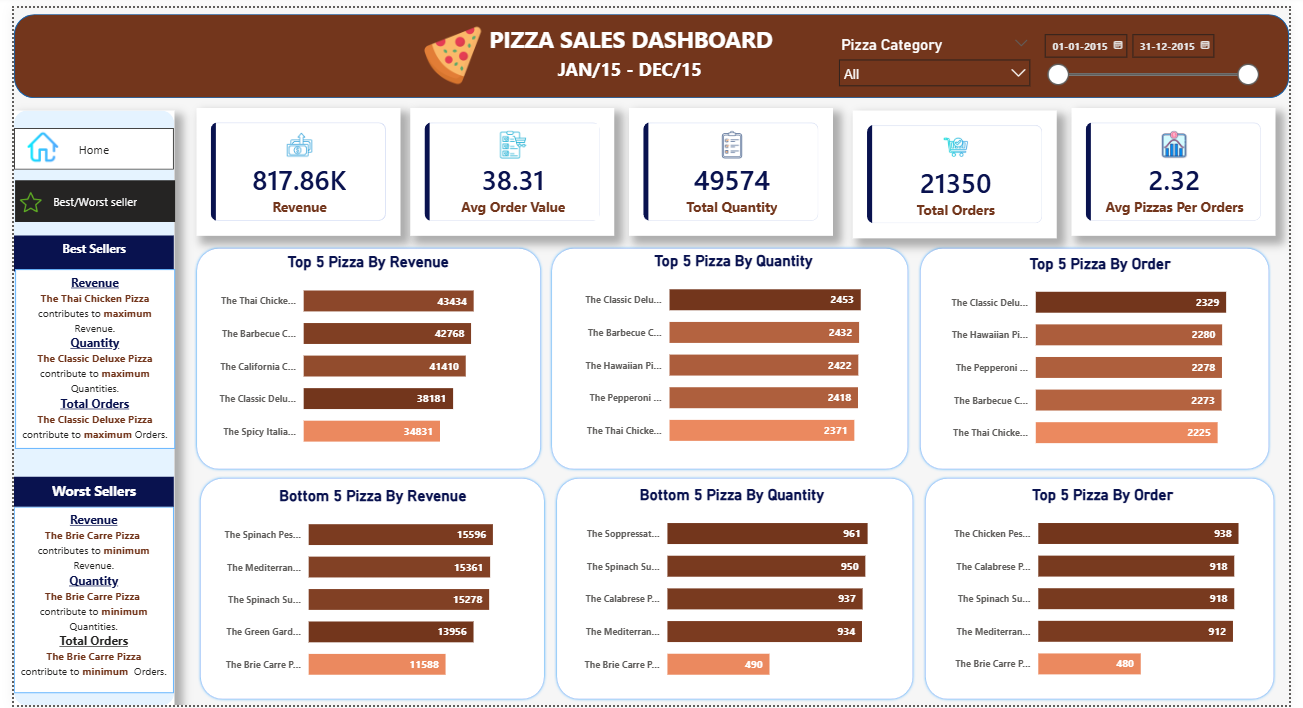

This screenshot's page, from the dashboard's own definition file:
{"tool":"powerbi","page":{"name":"Best/Worst seller","canvas":[1500,820],"ordinal":1},"visuals":[{"type":"cardVisual","fields":{"Data":["pizza_sales.Revenue"]},"box":[215.4,117.2,240,150],"z":0},{"type":"cardVisual","fields":{"Data":["pizza_sales.Avg Order Value"]},"box":[466.9,117.2,240,150],"z":1000},{"type":"cardVisual","fields":{"Data":["pizza_sales.Total Quantity"]},"box":[724,117.2,240,150],"z":2000},{"type":"cardVisual","fields":{"Data":["pizza_sales.Total Orders"]},"box":[986.2,120,240,150],"z":3000},{"type":"cardVisual","fields":{"Data":["pizza_sales.Avg Pizzas Per Orders"]},"box":[1244,117.2,240,150],"z":4000},{"type":"shape","box":[0,7.5,1500,98.8],"z":5000},{"type":"textbox","box":[547.5,13.8,357.5,47.5],"z":6000},{"type":"textbox","box":[608.8,51.2,231.2,40],"z":7000},{"type":"image","box":[466.2,21.2,100,70],"z":8000},{"type":"shape","box":[216.9,550.4,410.9,266.4],"z":9000},{"type":"shape","box":[1068.7,550.4,416.4,266.4],"z":10000},{"type":"shape","box":[635.1,550.4,425.5,266.4],"z":11000},{"type":"shape","box":[0,120,188.6,700],"z":12000},{"type":"textbox","box":[0.7,586.4,187.9,219.3],"z":13000},{"type":"textbox","box":[0.7,551.4,187.9,35],"z":14000},{"type":"textbox","box":[0,267.3,188.2,42.7],"z":15000},{"type":"textbox","box":[0.8,306.9,187.7,211.5],"z":16000},{"type":"slicer","fields":{"Values":["pizza_sales.pizza_category"]},"box":[960,27.5,245,78.8],"z":17000},{"type":"slicer","fields":{"Values":["pizza_sales.order_date"]},"box":[1200,21,273,79],"z":18000},{"type":"shape","box":[211.9,279,410.9,266.4],"z":19000},{"type":"shape","box":[1063.7,279,416.4,266.4],"z":20000},{"type":"shape","box":[630.1,279,425.5,266.4],"z":21000},{"type":"barChart","title":"Top 5 Pizza By Revenue","fields":{"Category":["pizza_sales.pizza_name"],"Y":["pizza_sales.Revenue"]},"box":[225.5,288.2,383.6,243.6],"z":21001},{"type":"barChart","title":"Bottom 5 Pizza By Revenue","fields":{"Category":["pizza_sales.pizza_name"],"Y":["pizza_sales.Revenue"]},"box":[231.4,562.9,382.9,242.9],"z":21002},{"type":"barChart","title":"Bottom 5 Pizza By Quantity","fields":{"Category":["pizza_sales.pizza_name"],"Y":["pizza_sales.Total Quantity"]},"box":[653.3,562.2,383.3,244.4],"z":21004},{"type":"barChart","title":"Top 5 Pizza By Quantity","fields":{"Category":["pizza_sales.pizza_name"],"Y":["pizza_sales.Total Quantity"]},"box":[654.3,287.1,384.3,244.3],"z":21005},{"type":"barChart","title":"Top 5 Pizza By Order","fields":{"Category":["pizza_sales.pizza_name"],"Y":["pizza_sales.Total Orders"]},"box":[1085,289,385,244],"z":21006},{"type":"barChart","title":"Top 5 Pizza By Order","fields":{"Category":["pizza_sales.pizza_name"],"Y":["pizza_sales.Total Orders"]},"box":[1088,562,385,244],"z":21007},{"type":"pageNavigator","box":[0.9,202.7,188.2,50],"z":21008},{"type":"pageNavigator","box":[0,141.8,188.2,50],"z":21009},{"type":"image","box":[8.8,146.2,50,36.2],"z":21010},{"type":"image","box":[2.5,216.2,33.8,25],"z":21011}]}

Visuals, with their boxes in screenshot pixels (x1, y1, x2, y2), scaled from the page's 1500x820 canvas onto the 1303x708 screenshot:
cardVisual - pizza_sales.Revenue: (x1=187, y1=101, x2=396, y2=231)
cardVisual - pizza_sales.Avg Order Value: (x1=406, y1=101, x2=614, y2=231)
cardVisual - pizza_sales.Total Quantity: (x1=629, y1=101, x2=837, y2=231)
cardVisual - pizza_sales.Total Orders: (x1=857, y1=104, x2=1065, y2=233)
cardVisual - pizza_sales.Avg Pizzas Per Orders: (x1=1081, y1=101, x2=1289, y2=231)
shape: (x1=0, y1=6, x2=1302, y2=92)
textbox: (x1=476, y1=12, x2=786, y2=53)
textbox: (x1=529, y1=44, x2=730, y2=79)
image: (x1=405, y1=18, x2=492, y2=79)
shape: (x1=188, y1=475, x2=545, y2=705)
shape: (x1=928, y1=475, x2=1290, y2=705)
shape: (x1=552, y1=475, x2=921, y2=705)
shape: (x1=0, y1=104, x2=164, y2=707)
textbox: (x1=1, y1=506, x2=164, y2=696)
textbox: (x1=1, y1=476, x2=164, y2=506)
textbox: (x1=0, y1=231, x2=163, y2=268)
textbox: (x1=1, y1=265, x2=164, y2=448)
slicer - pizza_sales.pizza_category: (x1=834, y1=24, x2=1047, y2=92)
slicer - pizza_sales.order_date: (x1=1042, y1=18, x2=1280, y2=86)
shape: (x1=184, y1=241, x2=541, y2=471)
shape: (x1=924, y1=241, x2=1286, y2=471)
shape: (x1=547, y1=241, x2=917, y2=471)
"Top 5 Pizza By Revenue" barChart: (x1=196, y1=249, x2=529, y2=459)
"Bottom 5 Pizza By Revenue" barChart: (x1=201, y1=486, x2=534, y2=696)
"Bottom 5 Pizza By Quantity" barChart: (x1=567, y1=485, x2=900, y2=696)
"Top 5 Pizza By Quantity" barChart: (x1=568, y1=248, x2=902, y2=459)
"Top 5 Pizza By Order" barChart: (x1=943, y1=250, x2=1277, y2=460)
"Top 5 Pizza By Order" barChart: (x1=945, y1=485, x2=1280, y2=696)
pageNavigator: (x1=1, y1=175, x2=164, y2=218)
pageNavigator: (x1=0, y1=122, x2=163, y2=166)
image: (x1=8, y1=126, x2=51, y2=157)
image: (x1=2, y1=187, x2=32, y2=208)
